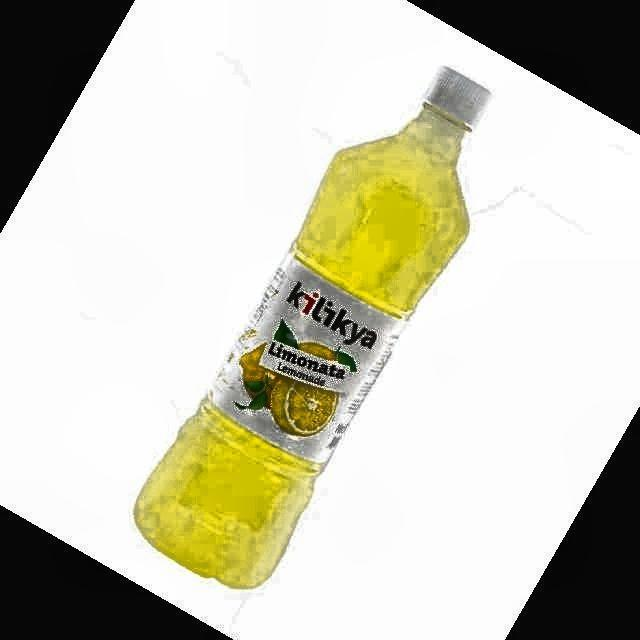plastic: (136, 69, 489, 588)
